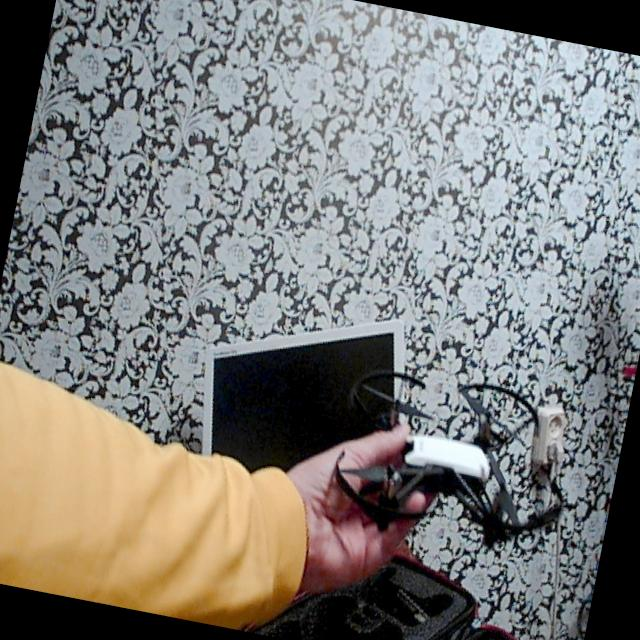drone: (322, 337, 605, 578)
